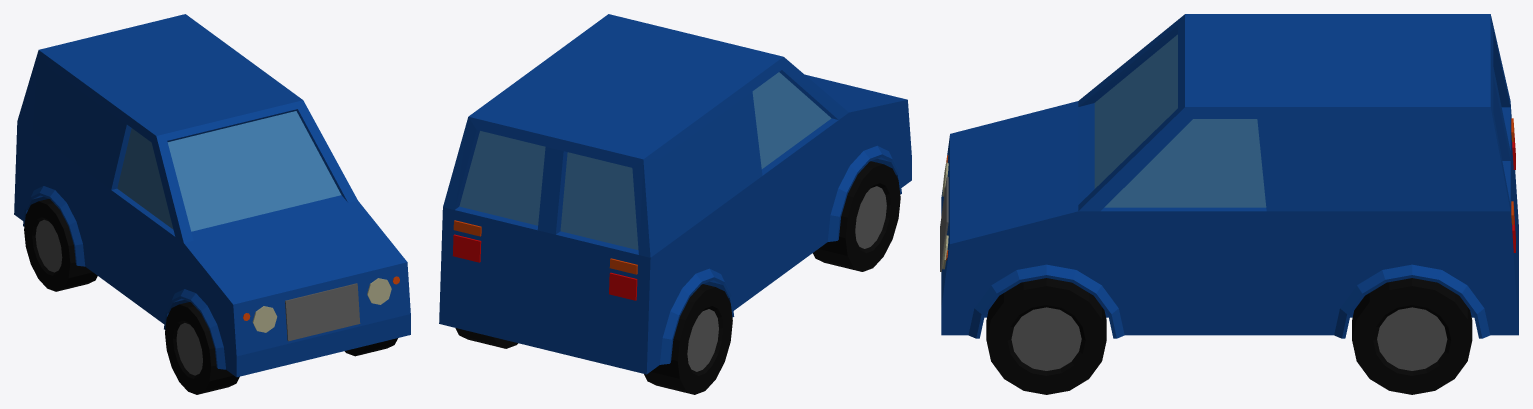
The model's file is car-microcargo-blue.obj.
3 views of the same model, side by side, from view 1: azimuth 30°, elevation 25°; view 2: azimuth 150°, elevation 25°; view 3: azimuth 270°, elevation 25° (orthographic). The views are drawn at different scales.
Visible parts, largest first — view 1: car-microcargo-blue_Cube.572_carmaterial_blue, car-microcargo-blue_Cube.572_windows, car-microcargo-blue_Cube.572_tires, car-microcargo-blue_Cube.572_metal, car-microcargo-blue_Cube.572_lights; view 2: car-microcargo-blue_Cube.572_carmaterial_blue, car-microcargo-blue_Cube.572_windows, car-microcargo-blue_Cube.572_tires, car-microcargo-blue_Cube.572_metal, car-microcargo-blue_Cube.572_lights.red, car-microcargo-blue_Cube.572_lights.orange; view 3: car-microcargo-blue_Cube.572_carmaterial_blue, car-microcargo-blue_Cube.572_windows, car-microcargo-blue_Cube.572_tires, car-microcargo-blue_Cube.572_metal.
Boxes of the visible parts, x1=… form: car-microcargo-blue_Cube.572_carmaterial_blue: x1=14, y1=14, x2=410, y2=377; car-microcargo-blue_Cube.572_windows: x1=117, y1=111, x2=341, y2=231; car-microcargo-blue_Cube.572_tires: x1=24, y1=199, x2=397, y2=394; car-microcargo-blue_Cube.572_metal: x1=35, y1=219, x2=360, y2=375; car-microcargo-blue_Cube.572_lights: x1=252, y1=278, x2=391, y2=332; car-microcargo-blue_Cube.572_carmaterial_blue: x1=439, y1=14, x2=911, y2=374; car-microcargo-blue_Cube.572_windows: x1=459, y1=72, x2=831, y2=249; car-microcargo-blue_Cube.572_tires: x1=455, y1=161, x2=900, y2=394; car-microcargo-blue_Cube.572_metal: x1=687, y1=186, x2=886, y2=371; car-microcargo-blue_Cube.572_lights.red: x1=452, y1=234, x2=637, y2=300; car-microcargo-blue_Cube.572_lights.orange: x1=453, y1=220, x2=637, y2=274; car-microcargo-blue_Cube.572_carmaterial_blue: x1=941, y1=14, x2=1518, y2=338; car-microcargo-blue_Cube.572_windows: x1=1094, y1=34, x2=1266, y2=207; car-microcargo-blue_Cube.572_tires: x1=986, y1=278, x2=1472, y2=394; car-microcargo-blue_Cube.572_metal: x1=940, y1=177, x2=1447, y2=370.
Bounding box in the file's own units: 0.8967 × 0.9513 × 1.82.
